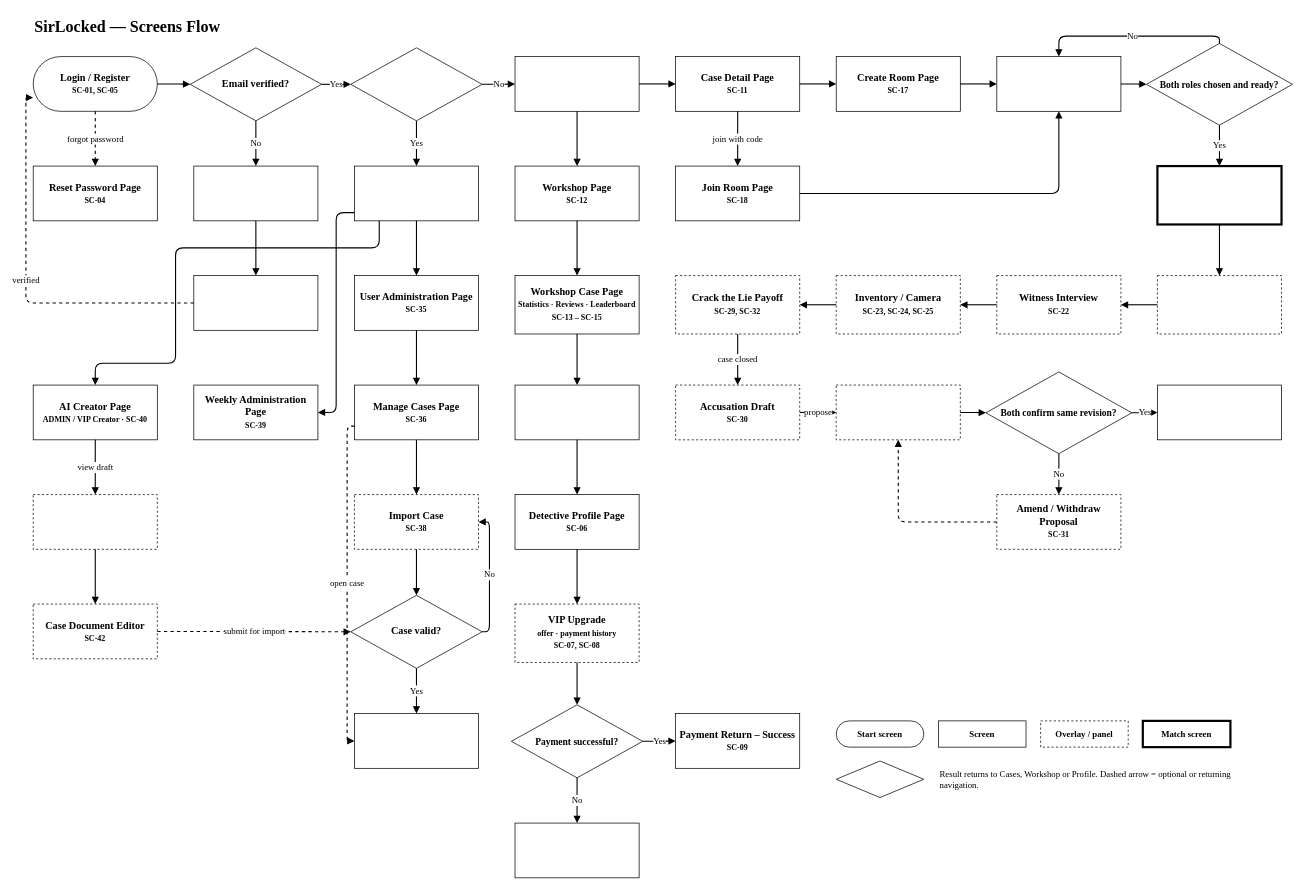
The diagram is 1305 pixels wide and 891 high, and some of its shapes have lost their labels. The centre of each missing label's shape, as x and y in pixels:
"Accusation Consensus SC-31" belongs at point (897, 412).
"Admin Case Detail Page validate · publish · SC-37" belongs at point (416, 740).
"Admin Dashboard Page SC-34" belongs at point (416, 193).
"Administrator?" belongs at point (416, 84).
"AI Draft Panel story preview · gates · SC-41" belongs at point (94, 521).
"Case File Drawer Evidence · Testimony · Joint Review SC-26 – SC-28" belongs at point (1219, 304).
"Cases Page SC-10" belongs at point (576, 83).
"Decision" belongs at point (879, 779).
"Game Page Investigator view SC-20 Interrogator view SC-21" belongs at point (1219, 195).
"Lobby Page SC-19" belongs at point (1058, 83).
"Payment Return – Cancelled SC-09" belongs at point (576, 850).
"Result Page SC-33" belongs at point (1219, 412).
"Verification Notice Page SC-03" belongs at point (255, 193).
"Verify Email Page SC-02" belongs at point (255, 302).
"Weekly Challenge Page SC-16" belongs at point (576, 412).
